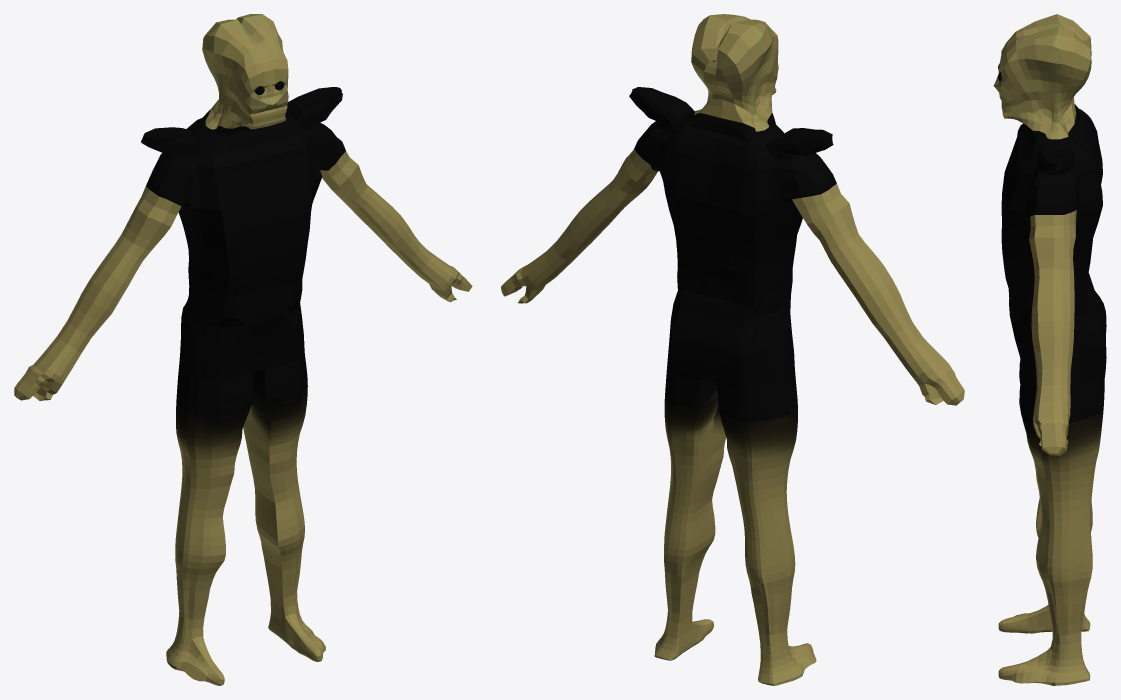
File: SmokeMonster.fbx
The picture shows the model from 3 angles, left to right: view 1: azimuth 30°, elevation 25°; view 2: azimuth 150°, elevation 25°; view 3: azimuth 270°, elevation 25°; orthographic projection.
Visible parts, largest first — view 1: SmokeMonster; view 2: SmokeMonster; view 3: SmokeMonster.
Boxes of the visible parts, bbox=[...] form: SmokeMonster: bbox=[14, 14, 472, 685]; SmokeMonster: bbox=[501, 14, 964, 685]; SmokeMonster: bbox=[993, 14, 1106, 685].
Bounding box in the file's own units: 260 × 348 × 56.47.
